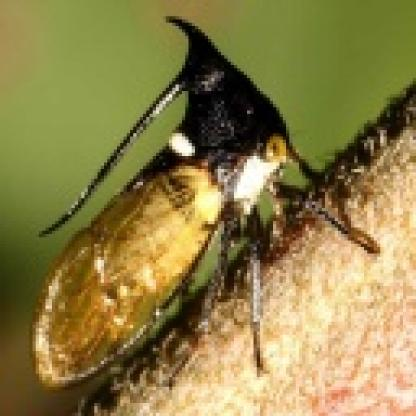grasshopper: (20, 10, 321, 381)
